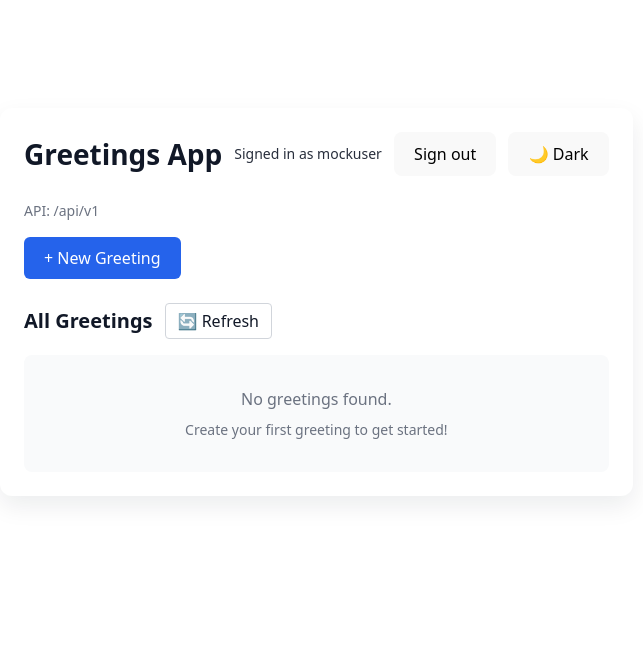
App › creating greetings: shows create form when clicking New Greeting button
The image size is (643, 649).
Click the button "+ New Greeting" at (102, 258), box x1=24 y1=237 x2=180 y2=279
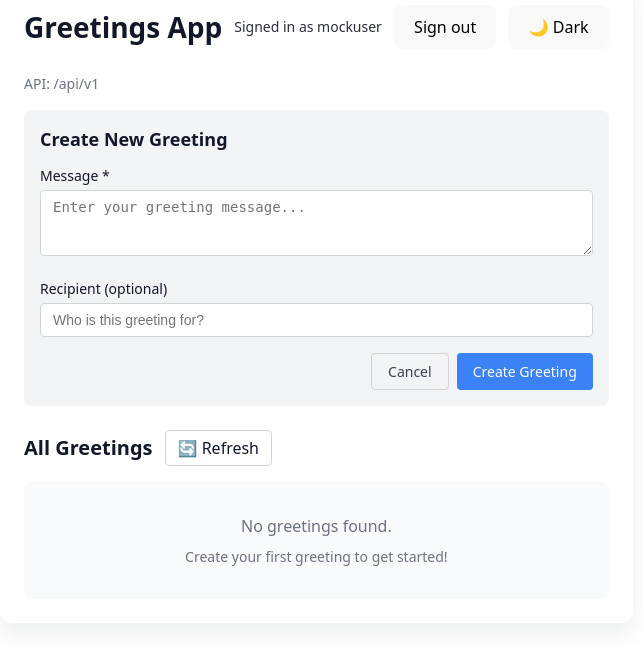
Expected: the heading "Create New Greeting" is shown, x1=40 y1=127 x2=228 y2=151
